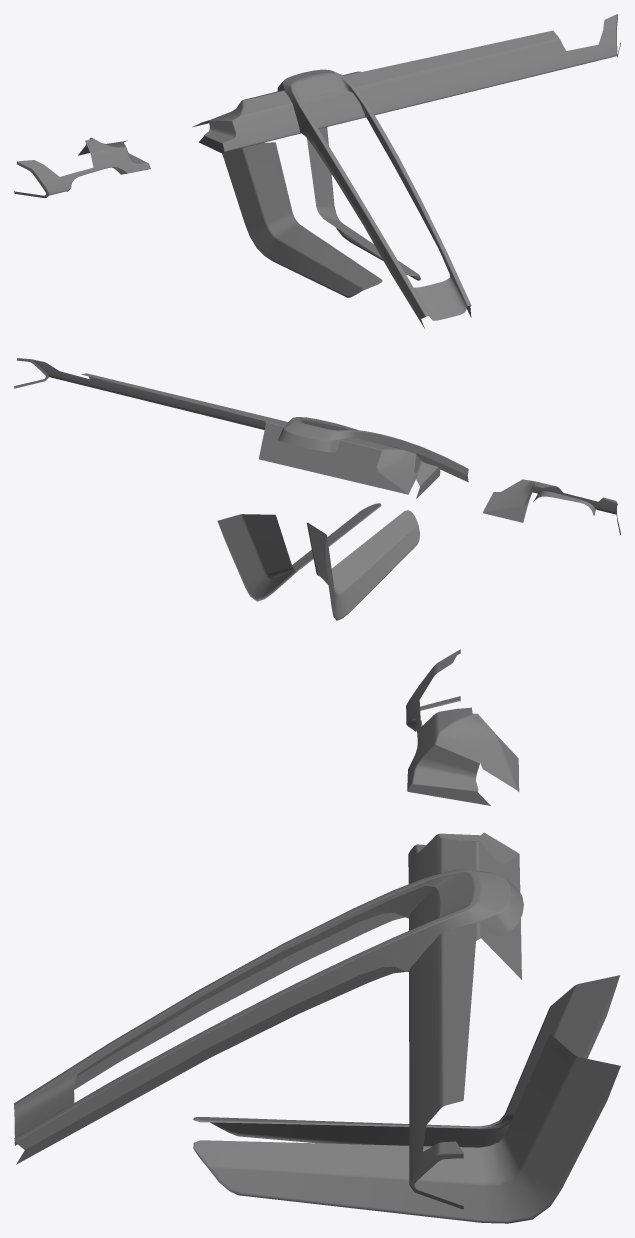
Rendered from Interior_Tilling.obj.
The picture shows the model from 3 angles, top to bottom: view 1: azimuth 30°, elevation 25°; view 2: azimuth 150°, elevation 25°; view 3: azimuth 270°, elevation 25°; orthographic projection. The views are drawn at different scales.
Visible parts, largest first — view 1: p:Kit1_InteriorTilling_Geo_lodA_Kit1_InteriorTilling_Geo_lodA_Po; view 2: p:Kit1_InteriorTilling_Geo_lodA_Kit1_InteriorTilling_Geo_lodA_Po; view 3: p:Kit1_InteriorTilling_Geo_lodA_Kit1_InteriorTilling_Geo_lodA_Po.
Boxes of the visible parts, box(x1,y1,x2,y2) form: p:Kit1_InteriorTilling_Geo_lodA_Kit1_InteriorTilling_Geo_lodA_Po: box(14, 14, 620, 328); p:Kit1_InteriorTilling_Geo_lodA_Kit1_InteriorTilling_Geo_lodA_Po: box(14, 358, 620, 620); p:Kit1_InteriorTilling_Geo_lodA_Kit1_InteriorTilling_Geo_lodA_Po: box(14, 649, 620, 1223).
Bounding box in the file's own units: 2.11 × 0.5846 × 1.06.
